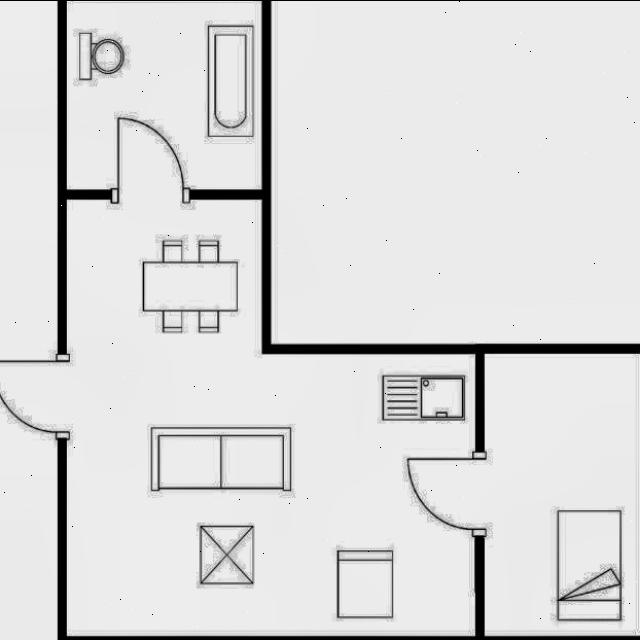room: (67, 199, 475, 635), (485, 353, 640, 635), (67, 0, 262, 188)
